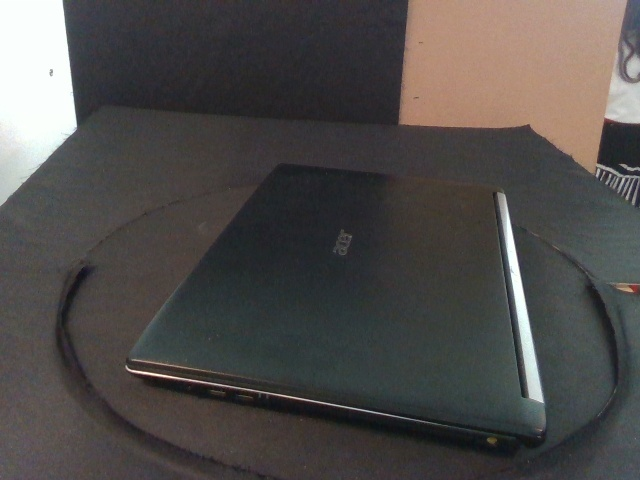laptop: (124, 161, 548, 458)
